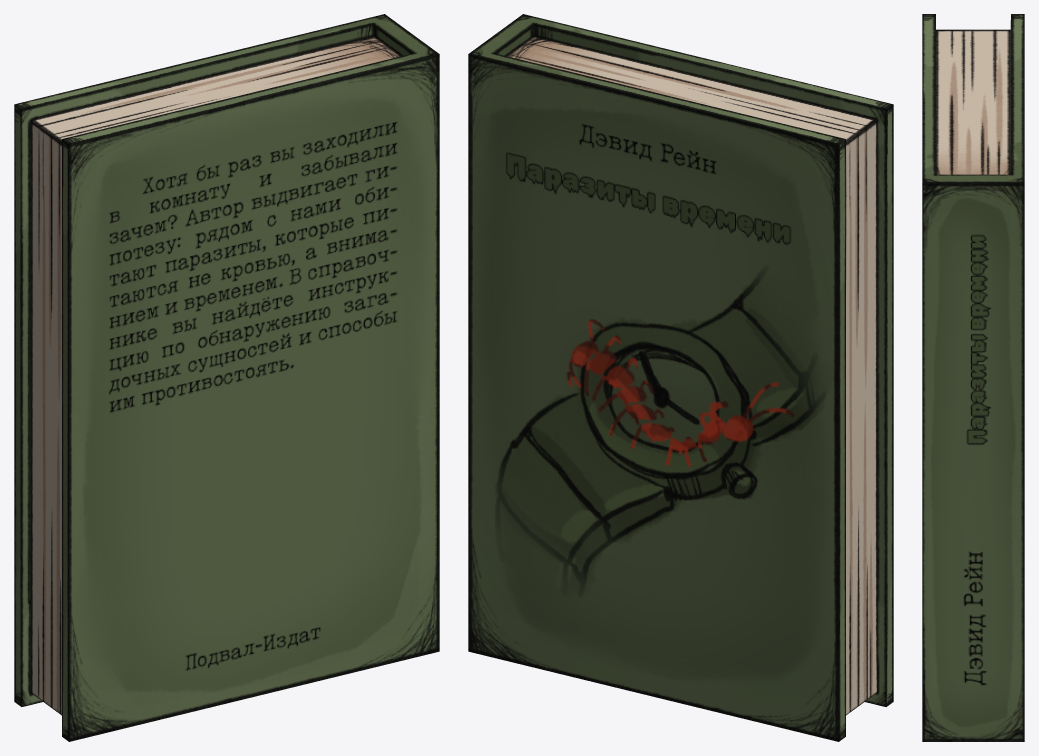
The model's file is book_7.fbx.
3 views of the same model, side by side, from view 1: azimuth 30°, elevation 25°; view 2: azimuth 150°, elevation 25°; view 3: azimuth 270°, elevation 25° (orthographic). The views are drawn at different scales.
Visible parts, largest first — view 1: book_1; view 2: book_1; view 3: book_1.
Part boxes in pixels (x1,y1,x2,y2): book_1: (14, 14, 439, 741); book_1: (468, 14, 893, 741); book_1: (922, 14, 1024, 741).
Size of the model in its own units: 29.92 by 46.11 by 7.66.
Materials: 1 (1 with a texture image).
